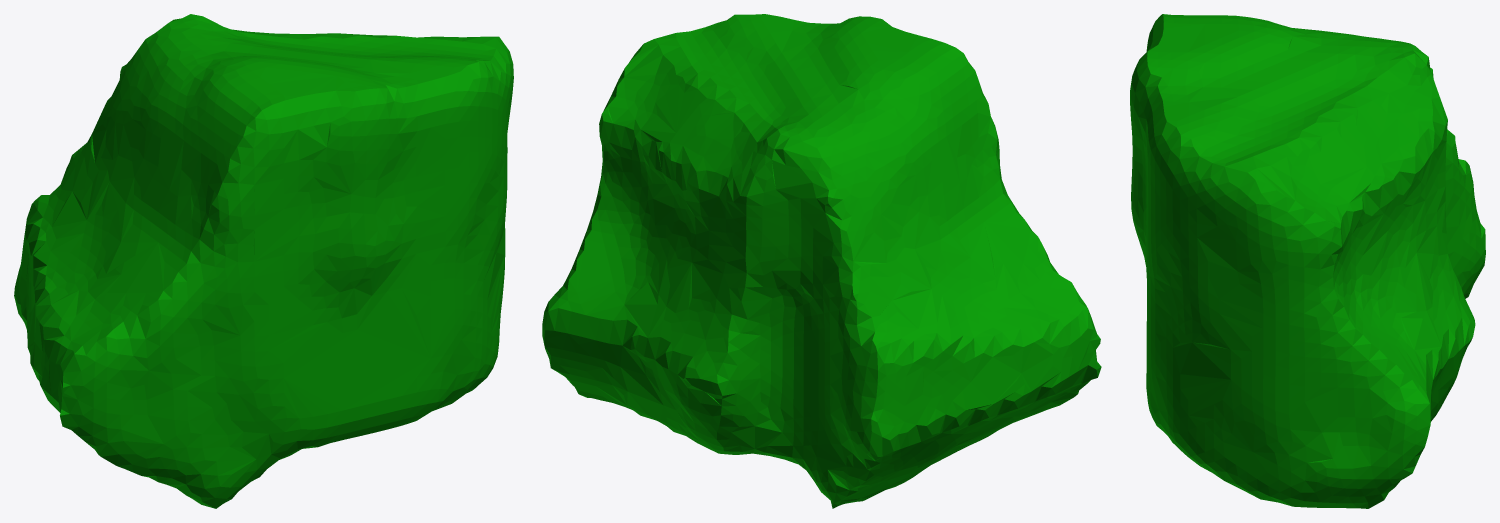
File: Model_10150_LH__Visual_area_6A_(posterior_parietal_medial_area)_(V6A).obj
The picture shows the model from 3 angles, left to right: view 1: azimuth 30°, elevation 25°; view 2: azimuth 150°, elevation 25°; view 3: azimuth 270°, elevation 25°; orthographic projection. The views are drawn at different scales.
Bounding box in the file's own units: 3.35 × 2.6 × 2.15.
